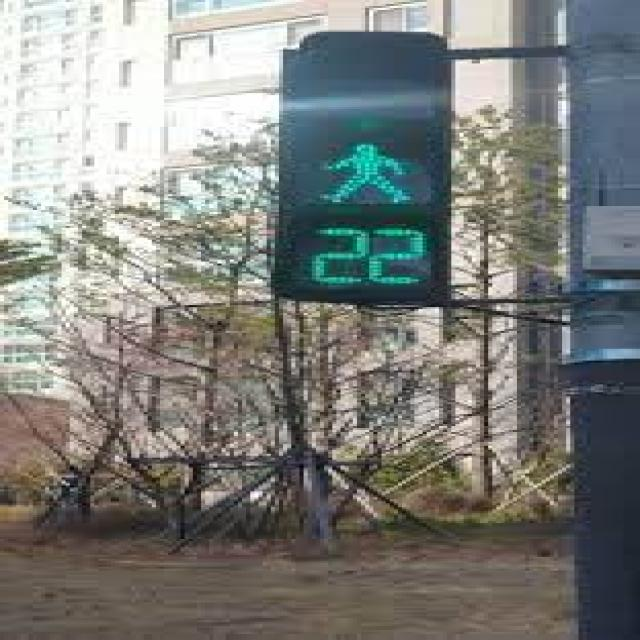Go: (268, 117, 445, 220)
